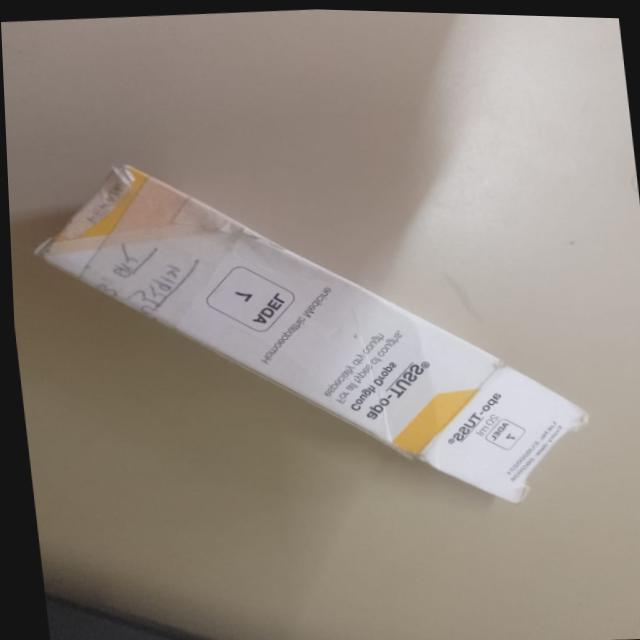medicine: (35, 150, 602, 514)
